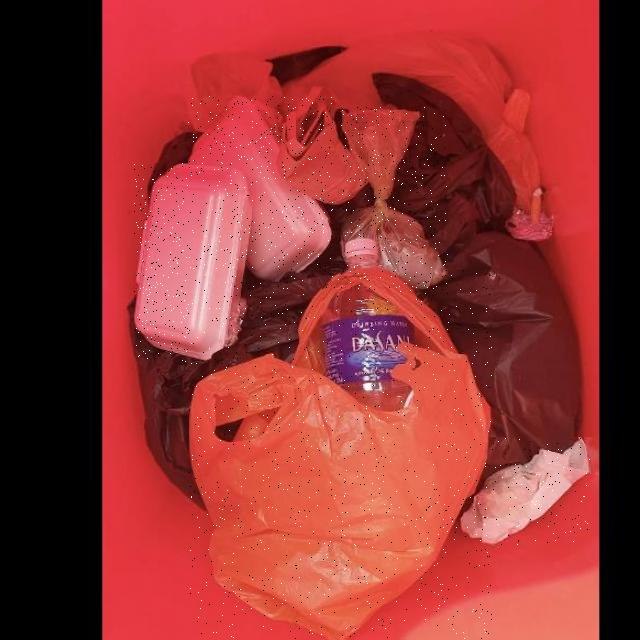paper: (461, 438, 590, 545)
plastic: (190, 271, 492, 639), (341, 108, 448, 290), (322, 284, 415, 412)
styrofoam: (189, 97, 333, 284), (134, 164, 253, 362)
